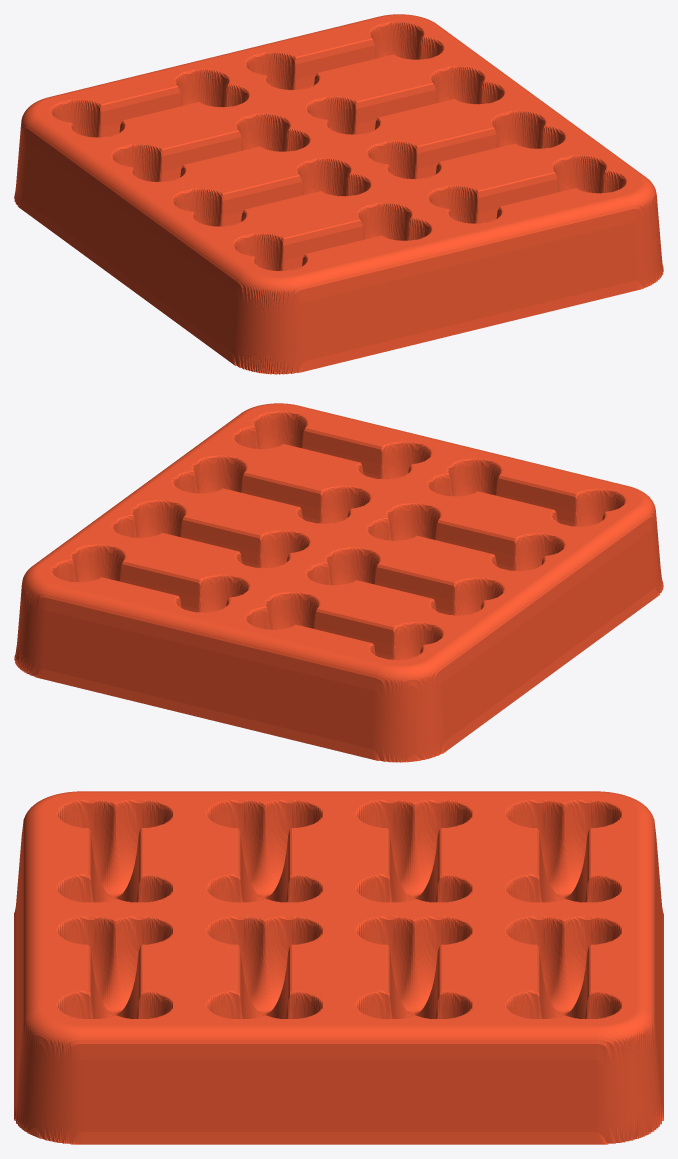
The model's file is mold.glb.
3 views of the same model, one above another, from view 1: azimuth 30°, elevation 25°; view 2: azimuth 150°, elevation 25°; view 3: azimuth 270°, elevation 25° (orthographic). The views are drawn at different scales.
Parts seen in each view (by area): view 1: geometry_0; view 2: geometry_0; view 3: geometry_0.
Boxes of the visible parts, bbox=[...] form: geometry_0: bbox=[14, 14, 663, 374]; geometry_0: bbox=[14, 403, 663, 762]; geometry_0: bbox=[14, 791, 663, 1144].
Size of the model in its own units: 0.0809 by 0.0159 by 0.0871.
